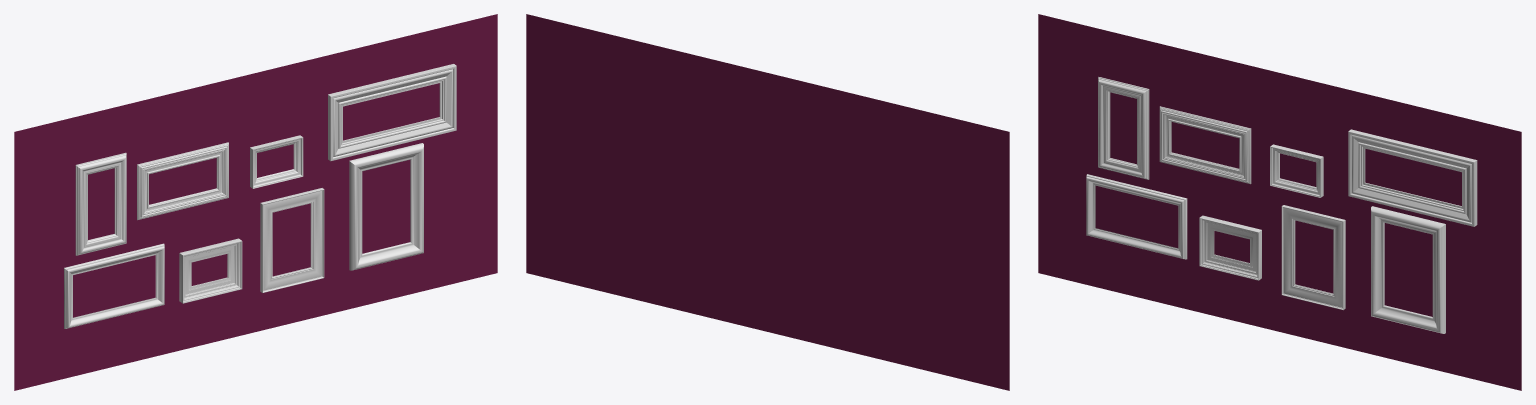
File: frames.fbx
The picture shows the model from 3 angles, left to right: view 1: azimuth 30°, elevation 25°; view 2: azimuth 150°, elevation 25°; view 3: azimuth 330°, elevation 25°; orthographic projection.
Visible parts, largest first — view 1: Plane, Marco 4 a, Marco 8, Marco 7, Marco 2 a, Marco 1, Marco 5, Marco 6, marco 3 a; view 2: Plane; view 3: Plane, Marco 4 a, Marco 8, Marco 7, Marco 2 a, Marco 1, Marco 5, Marco 6, marco 3 a.
Boxes of the visible parts, <box> form: Plane: <box>14,14,497,390</box>; Marco 4 a: <box>328,64,456,161</box>; Marco 8: <box>349,143,423,270</box>; Marco 7: <box>260,188,324,292</box>; Marco 2 a: <box>137,142,228,220</box>; Marco 1: <box>75,152,126,255</box>; Marco 5: <box>64,243,164,328</box>; Marco 6: <box>179,238,242,303</box>; marco 3 a: <box>250,135,303,188</box>; Plane: <box>526,14,1009,390</box>; Plane: <box>1038,14,1521,390</box>; Marco 4 a: <box>1348,129,1477,226</box>; Marco 8: <box>1371,206,1445,333</box>; Marco 7: <box>1281,205,1345,310</box>; Marco 2 a: <box>1159,106,1251,184</box>; Marco 1: <box>1098,77,1149,179</box>; Marco 5: <box>1086,174,1187,259</box>; Marco 6: <box>1199,215,1261,280</box>; marco 3 a: <box>1270,144,1323,197</box>.
Bounding box in the file's own units: 1006 × 515 × 13.79.
